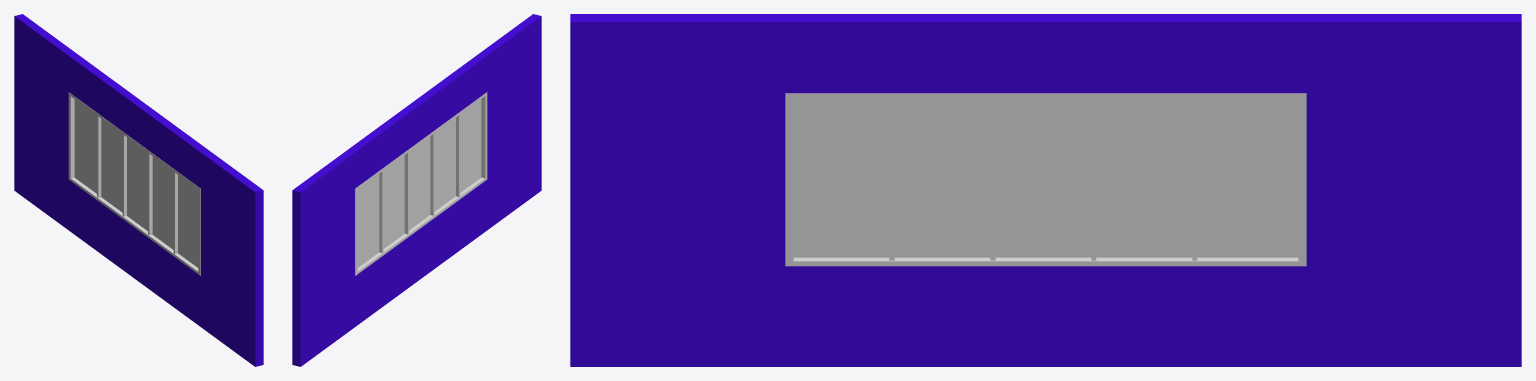
File: Hallway_Wall_Window_5u.fbx
3 renders of one model, left to right at view 1: azimuth 30°, elevation 25°; view 2: azimuth 150°, elevation 25°; view 3: azimuth 270°, elevation 25°, orthographic. The views are drawn at different scales.
Parts seen in each view (by area): view 1: Hallway_Wall_Window_5u, Window_Glass, Hallway_Window; view 2: Hallway_Wall_Window_5u, Window_Glass, Hallway_Window; view 3: Hallway_Wall_Window_5u, Window_Glass, Hallway_Window.
Boxes of the visible parts, x1,y1,x2,y2 form: Hallway_Wall_Window_5u: (14,14,263,366); Window_Glass: (74,99,198,267); Hallway_Window: (68,92,200,275); Hallway_Wall_Window_5u: (292,14,541,366); Window_Glass: (357,99,481,267); Hallway_Window: (355,92,487,275); Hallway_Wall_Window_5u: (570,14,1521,366); Window_Glass: (793,98,1298,257); Hallway_Window: (785,93,1306,266).
Bounding box in the file's own units: 105 × 2000 × 5000.
